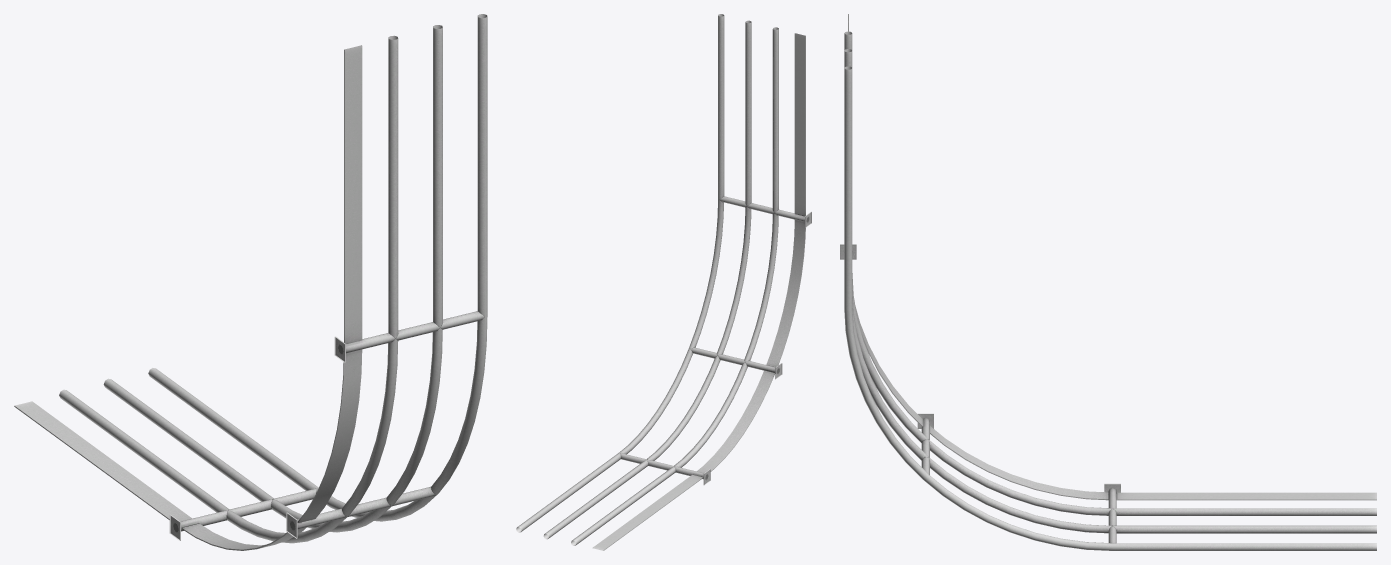
Rendered from props_trainyard_handrailcorner.glb.
3 views of the same model, side by side, from view 1: azimuth 30°, elevation 25°; view 2: azimuth 150°, elevation 25°; view 3: azimuth 270°, elevation 25° (orthographic). The views are drawn at different scales.
Parts seen in each view (by area): view 1: models/props_trainyard/handrailcorner; view 2: models/props_trainyard/handrailcorner; view 3: models/props_trainyard/handrailcorner.
Part boxes in pixels (box(x1,y1,x2,y2)): models/props_trainyard/handrailcorner: box(14, 14, 487, 550); models/props_trainyard/handrailcorner: box(516, 14, 811, 550); models/props_trainyard/handrailcorner: box(840, 14, 1376, 550).
Size of the model in its own units: 33 by 130 by 130.
1 material, 1 textured.
